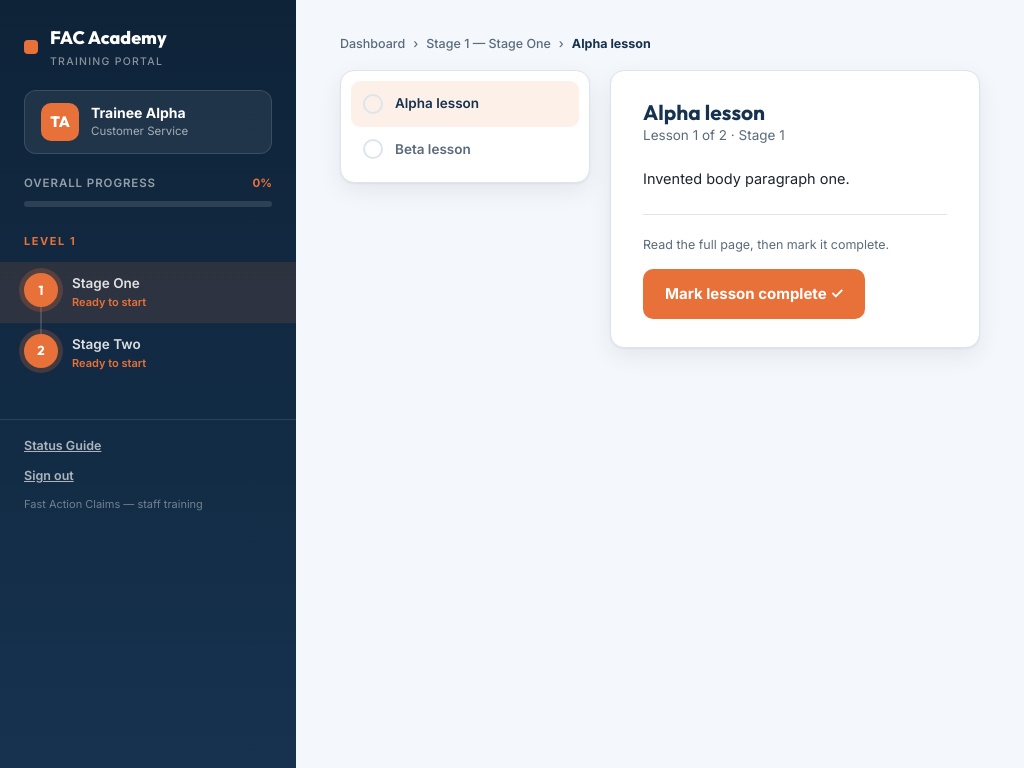
Test: Lesson reader › renders the body HTML the API served and marks the lesson read
Expected: the heading "Alpha lesson" is shown, [643,99,765,125]
Expected: the text "Invented body paragraph one." is shown, [643,170,850,187]
Click the button "Mark lesson complete ✓" at (754, 294), box [643,269,866,319]
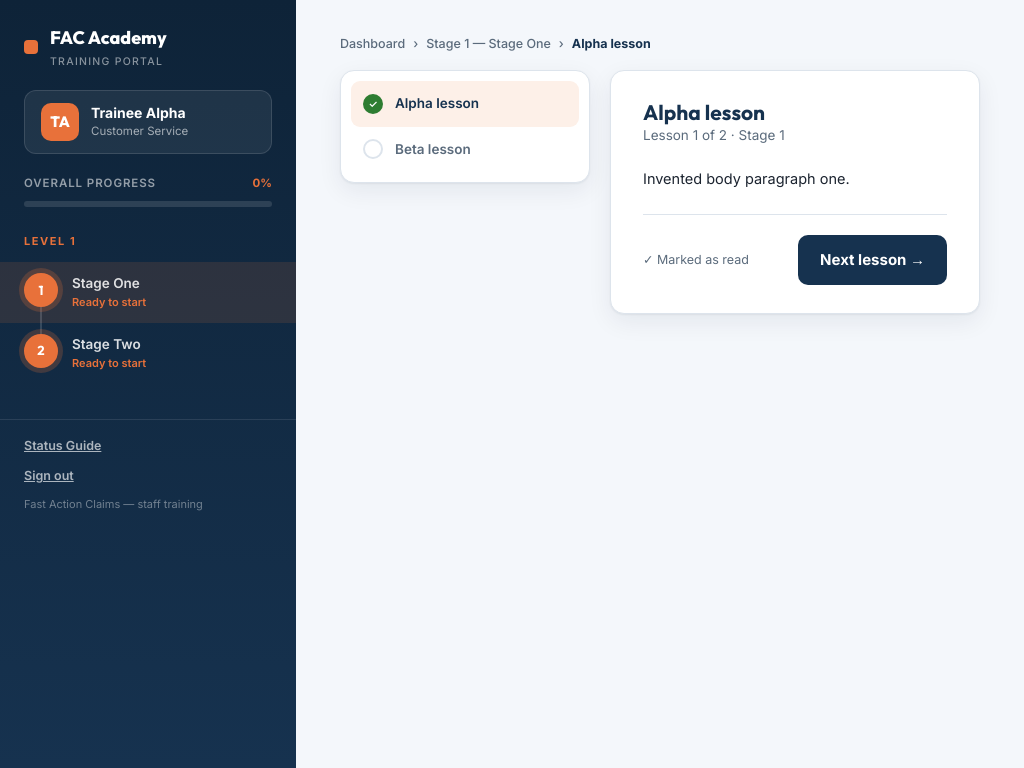
Result: the text "✓ Marked as read" is shown at [643,250,749,270]
